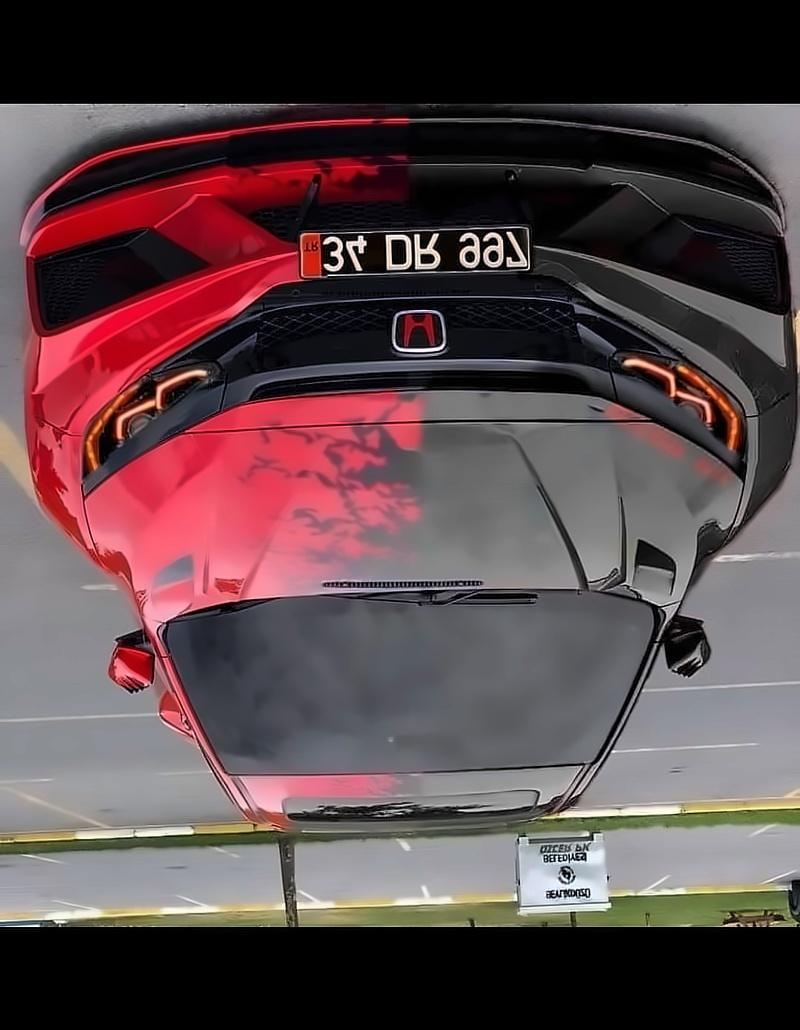Car hood: (82, 382, 746, 616)
Front bumper: (17, 109, 800, 380)
Headlight - -L-: (67, 350, 236, 491)
Headlight - -R-: (607, 344, 758, 462)
Side mirror - -L-: (95, 627, 173, 701)
Side mirror - -R-: (654, 605, 720, 683)
